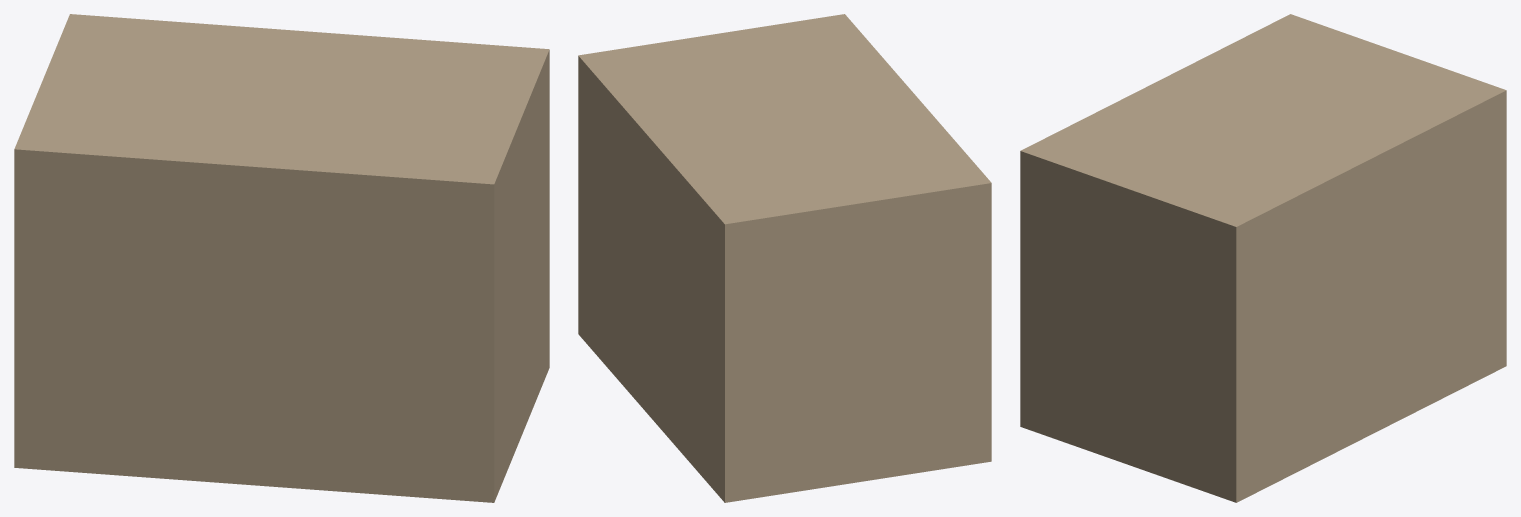
File: bld_100469463.dae
The picture shows the model from 3 angles, left to right: view 1: azimuth 30°, elevation 25°; view 2: azimuth 150°, elevation 25°; view 3: azimuth 270°, elevation 25°; orthographic projection. The views are drawn at different scales.
Visible parts, largest first — view 1: bld_100469463; view 2: bld_100469463; view 3: bld_100469463.
Boxes of the visible parts, <box> form: bld_100469463: <box>14,14,549,502</box>; bld_100469463: <box>578,14,991,502</box>; bld_100469463: <box>1020,14,1506,502</box>.
Bounding box in the file's own units: 13.25 × 12.78 × 8.
